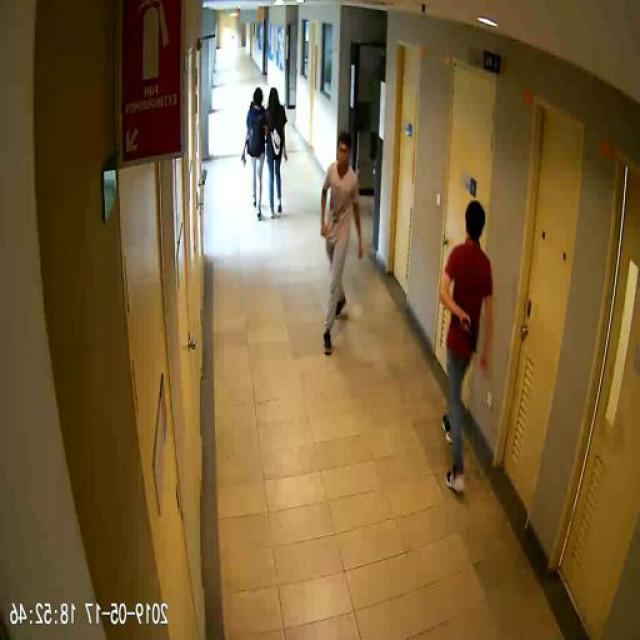Gun: (458, 314, 482, 355)
